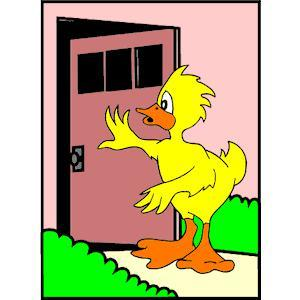bird: (93, 59, 246, 271)
